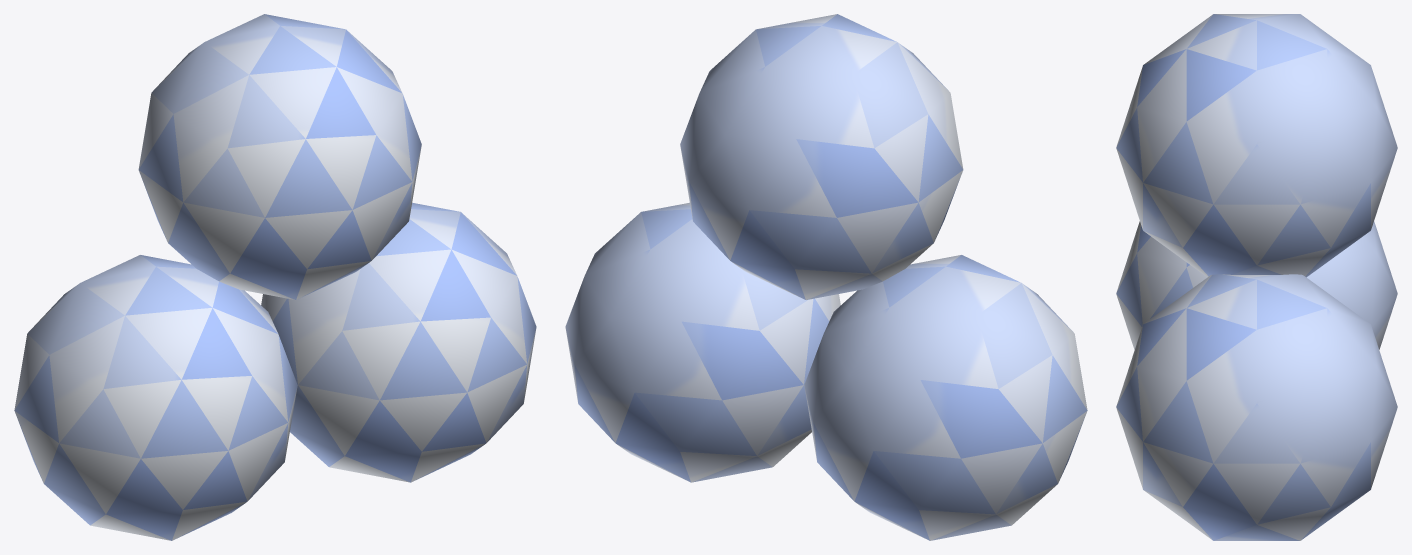
File: BallMultiply.fbx
3 renders of one model, left to right at view 1: azimuth 30°, elevation 25°; view 2: azimuth 150°, elevation 25°; view 3: azimuth 270°, elevation 25°, orthographic. The views are drawn at different scales.
Parts seen in each view (by area): view 1: Icosphere.010, Icosphere.007, Icosphere.009; view 2: Icosphere.010, Icosphere.007, Icosphere.009; view 3: Icosphere.009, Icosphere.010, Icosphere.007.
Part boxes in pixels (<box>): Icosphere.010: <box>138,14,421,299</box>; Icosphere.007: <box>14,255,297,540</box>; Icosphere.009: <box>261,202,536,482</box>; Icosphere.010: <box>680,14,963,299</box>; Icosphere.007: <box>804,255,1087,540</box>; Icosphere.009: <box>565,202,840,482</box>; Icosphere.009: <box>1116,274,1397,540</box>; Icosphere.010: <box>1116,14,1397,277</box>; Icosphere.007: <box>1116,221,1397,349</box>.
Bounding box in the file's own units: 300 × 284 × 158.
